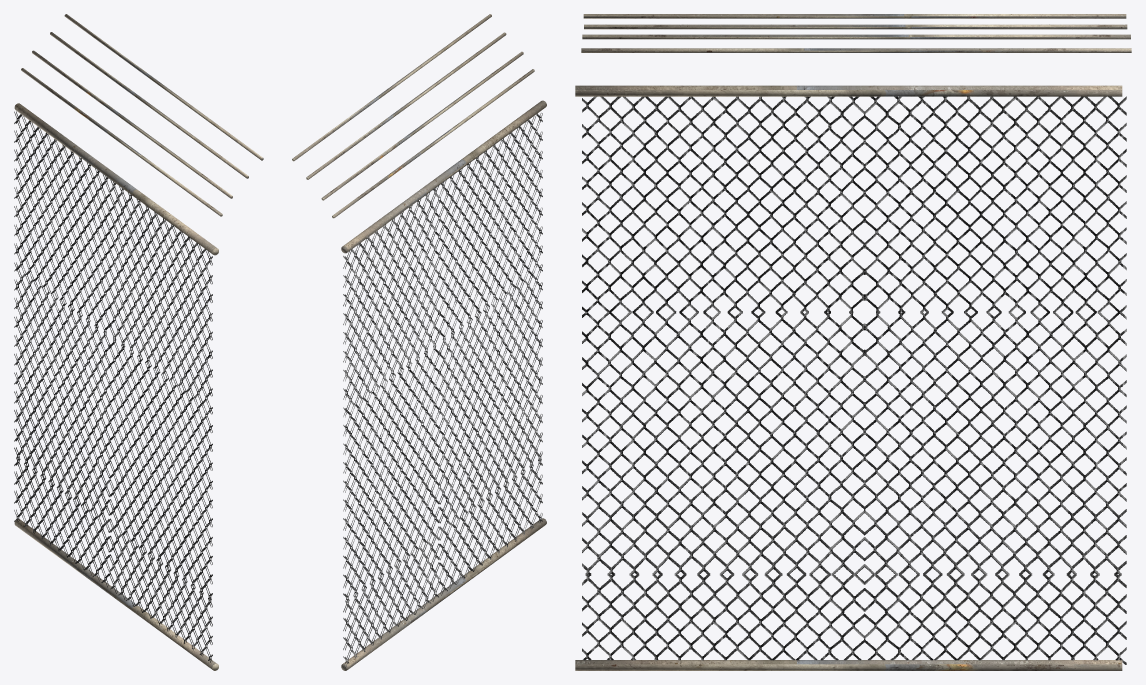
The model's file is Chain_Modular_NoPoles.fbx.
The picture shows the model from 3 angles, left to right: view 1: azimuth 30°, elevation 25°; view 2: azimuth 150°, elevation 25°; view 3: azimuth 270°, elevation 25°; orthographic projection. The views are drawn at different scales.
Parts seen in each view (by area): view 1: Chain_Modular_NoPoles; view 2: Chain_Modular_NoPoles; view 3: Chain_Modular_NoPoles.
Part boxes in pixels (x1=…): Chain_Modular_NoPoles: x1=14, y1=14, x2=263, y2=670; Chain_Modular_NoPoles: x1=292, y1=14, x2=546, y2=670; Chain_Modular_NoPoles: x1=575, y1=14, x2=1131, y2=670.
Size of the model in its own units: 79.69 by 701 by 512.
